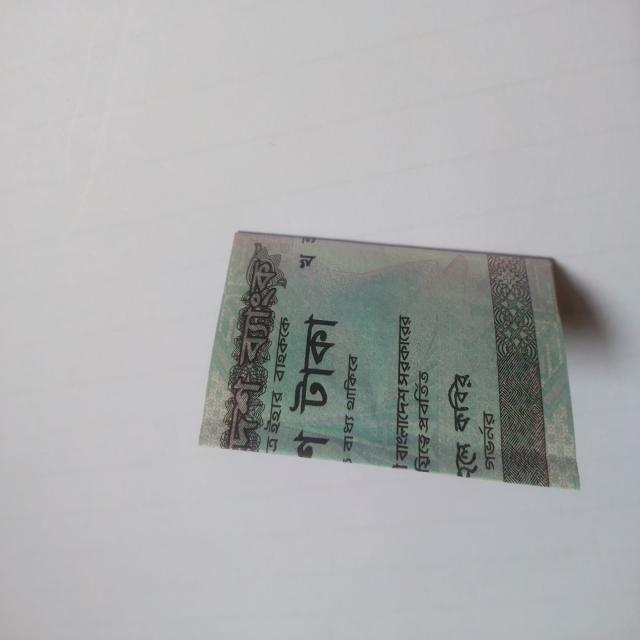Taka: (218, 214, 572, 476)
